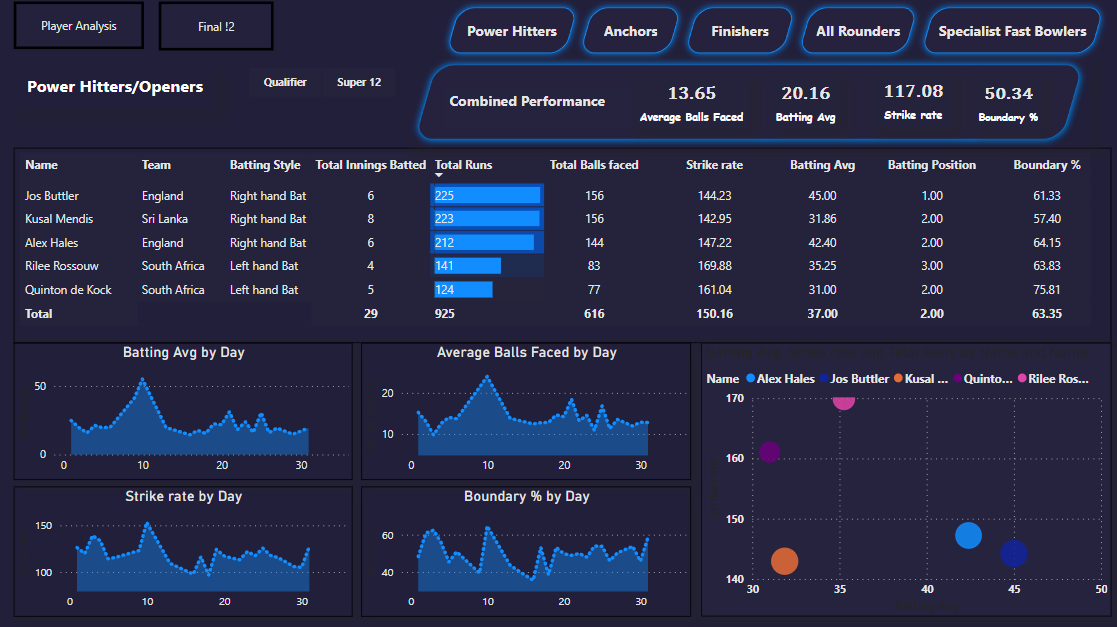

The dashboard page shown, as its layout file describes it:
{"tool":"powerbi","page":{"name":"Power Hitters/Openers","canvas":[1280,720],"ordinal":0},"visuals":[{"type":"shape","box":[0,0,1280,720],"z":0},{"type":"tableEx","fields":{"Values":["dim_players.name","dim_players.team","dim_players.battingStyle","Key_Measures.Total Innings Batted","Key_Measures.Total Runs","Key_Measures.Total balls faced","Key_Measures.Strike rate","Key_Measures.Batting Avg","Key_Measures.Batting Position","Key_Measures.Boundary %"]},"box":[15.7,170,1254.3,222.9],"z":1000},{"type":"scatterChart","fields":{"X":["Key_Measures.Batting Avg"],"Y":["Key_Measures.Strike rate"],"Series":["dim_players.name"],"Size":["Key_Measures.Total Runs"],"Category":["dim_players.name"]},"box":[801.4,392.9,468.6,312.9],"z":2000},{"type":"slicer","fields":{"Values":["dim_match_sum.stage"]},"box":[258.6,71.4,217.1,47.1],"z":3000},{"type":"textbox","box":[15.1,81.1,231.4,45.7],"z":4000},{"type":"shape","box":[464.9,66,782.9,104.3],"z":5000},{"type":"card","fields":{"Values":["Key_Measures.Boundary %"]},"box":[1113.4,86,78.6,62.9],"z":6000},{"type":"card","fields":{"Values":["Key_Measures.Strike rate"]},"box":[997.7,81.7,92.9,65.7],"z":7000},{"type":"card","fields":{"Values":["Key_Measures.Batting Avg"]},"box":[882,86,78.6,61.4],"z":8000},{"type":"card","fields":{"Values":["Key_Measures.Average Balls Faced"]},"box":[723.4,86,134.3,61.4],"z":9000},{"type":"actionButton","box":[500.9,0.9,167.1,68.6],"z":10000},{"type":"actionButton","box":[654.8,0.9,132.9,68.6],"z":11000},{"type":"actionButton","box":[774.4,0.9,142.9,68.6],"z":12000},{"type":"actionButton","box":[904.1,0.9,152.9,68.6],"z":13000},{"type":"actionButton","box":[1043.7,0.9,225.7,68.6],"z":14000},{"type":"textbox","box":[508.6,100,212.9,47.1],"z":15000},{"type":"stackedAreaChart","fields":{"Category":["dim_match_sum.matchDate.Variation.Date Hierarchy.Day"],"Y":["Key_Measures.Batting Avg"]},"box":[15.7,392.9,387.1,157.1],"z":16000},{"type":"stackedAreaChart","fields":{"Category":["dim_match_sum.matchDate.Variation.Date Hierarchy.Day"],"Y":["Key_Measures.Strike rate"]},"box":[15.7,557.1,387.1,148.6],"z":17000},{"type":"stackedAreaChart","fields":{"Category":["dim_match_sum.matchDate.Variation.Date Hierarchy.Day"],"Y":["Key_Measures.Average Balls Faced"]},"box":[412.9,392.9,377.1,157.1],"z":18000},{"type":"stackedAreaChart","fields":{"Category":["dim_match_sum.matchDate.Variation.Date Hierarchy.Day"],"Y":["Key_Measures.Boundary %"]},"box":[412.9,557.1,377.1,148.6],"z":19000},{"type":"actionButton","box":[15.7,2.9,148.6,54.3],"z":20000},{"type":"actionButton","box":[181.4,2.9,131.4,55.7],"z":21000},{"type":"shape","box":[508.6,8.6,154.3,55.7],"z":21001}]}

Visuals, with their boxes in screenshot pixels (x1, y1, x2, y2), scaled from the page's 1280x720 canvas onto the 1117x627 screenshot:
shape: (0, 0, 1116, 626)
tableEx - dim_players.name x dim_players.team: (14, 148, 1108, 342)
scatterChart - Key_Measures.Batting Avg x Key_Measures.Strike rate: (699, 342, 1108, 615)
slicer - dim_match_sum.stage: (226, 62, 415, 103)
textbox: (13, 71, 215, 110)
shape: (406, 57, 1089, 148)
card - Key_Measures.Boundary %: (972, 75, 1040, 130)
card - Key_Measures.Strike rate: (871, 71, 952, 128)
card - Key_Measures.Batting Avg: (770, 75, 838, 128)
card - Key_Measures.Average Balls Faced: (631, 75, 748, 128)
actionButton: (437, 1, 583, 61)
actionButton: (571, 1, 687, 61)
actionButton: (676, 1, 800, 61)
actionButton: (789, 1, 922, 61)
actionButton: (911, 1, 1108, 61)
textbox: (444, 87, 630, 128)
stackedAreaChart - dim_match_sum.matchDate.Variation.Date Hierarchy.Day x Key_Measures.Batting Avg: (14, 342, 352, 479)
stackedAreaChart - dim_match_sum.matchDate.Variation.Date Hierarchy.Day x Key_Measures.Strike rate: (14, 485, 352, 615)
stackedAreaChart - dim_match_sum.matchDate.Variation.Date Hierarchy.Day x Key_Measures.Average Balls Faced: (360, 342, 689, 479)
stackedAreaChart - dim_match_sum.matchDate.Variation.Date Hierarchy.Day x Key_Measures.Boundary %: (360, 485, 689, 615)
actionButton: (14, 3, 143, 50)
actionButton: (158, 3, 273, 51)
shape: (444, 7, 578, 56)
